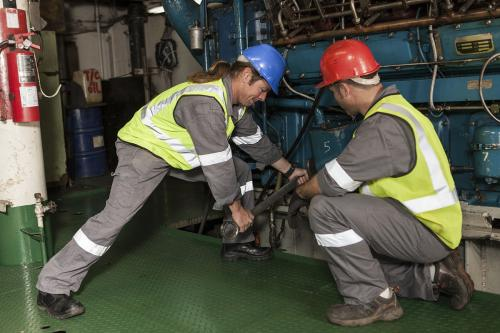boots: (326, 287, 403, 326), (434, 250, 474, 309), (36, 288, 84, 319), (221, 240, 273, 262)
gloves: (287, 191, 309, 217)
hard-hat: (313, 38, 381, 88), (241, 43, 286, 96)
person: (34, 42, 309, 320), (288, 38, 474, 328)
vest: (315, 89, 464, 241), (120, 74, 249, 174)
